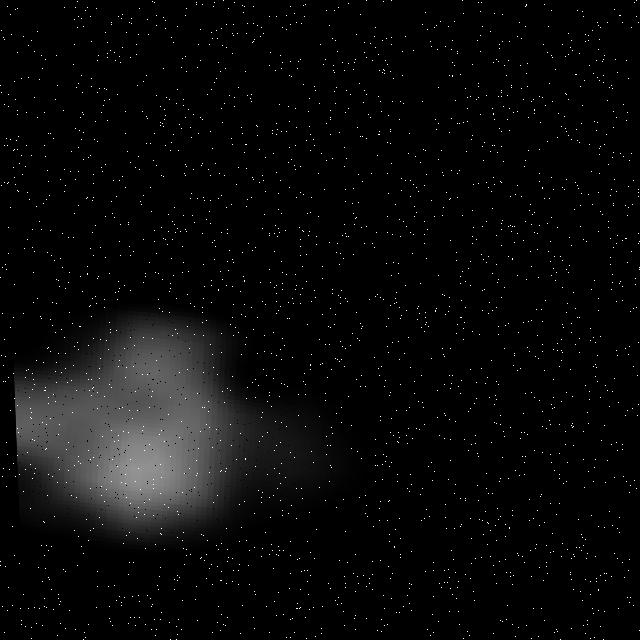person: (9, 268, 407, 611)
